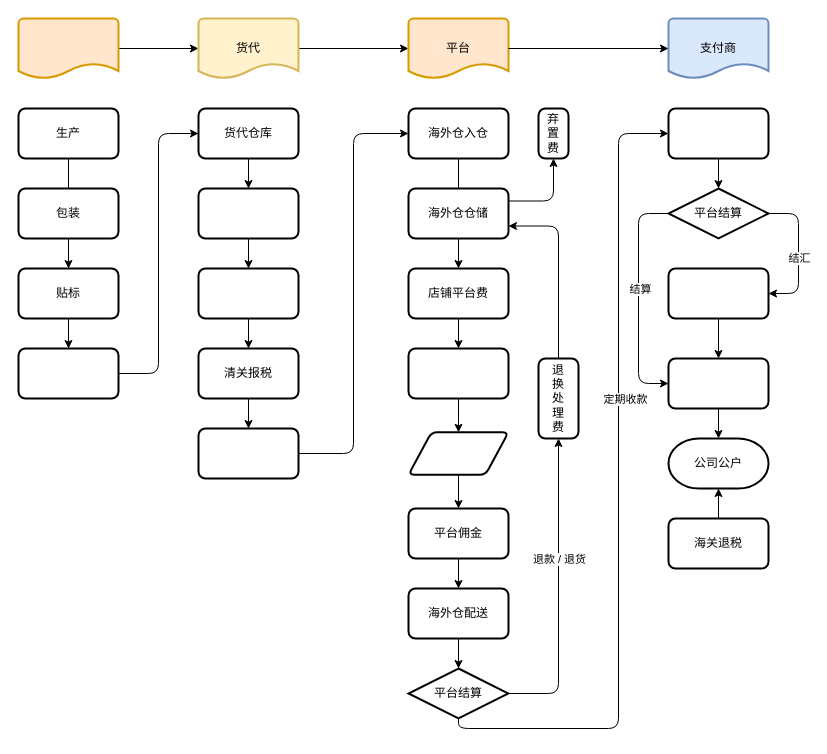
Some shapes in this 827 by 754 pixel diagram are drawn without their labels. Here are the shapes that lost their labels. From the top down, the centre of each, then its label:
At (x=68, y=48): "工厂".
At (x=718, y=133): "第三方支付平台".
At (x=248, y=213): "出口申报".
At (x=248, y=293): "集装箱海运".
At (x=718, y=293): "结汇汇损".
At (x=68, y=373): "国内物流".
At (x=458, y=373): "营销费用".
At (x=718, y=383): "提现手续费".
At (x=248, y=453): "尾程派送".
At (x=458, y=453): "售出".
